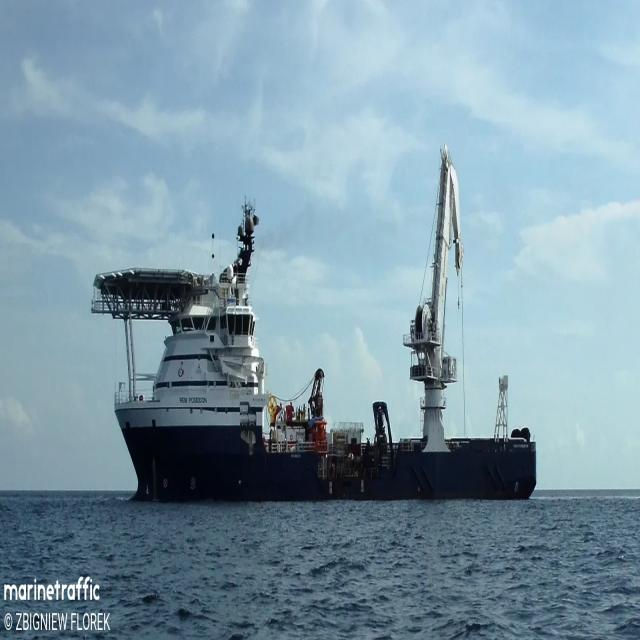Offshore: (92, 150, 536, 501)
